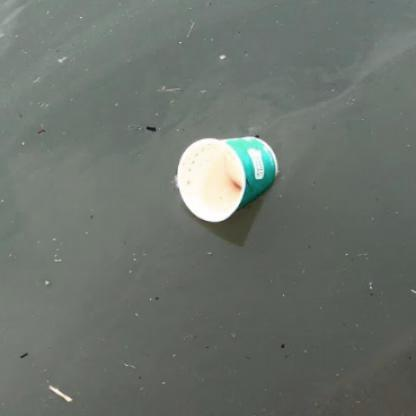Plastic: (173, 132, 284, 224)
